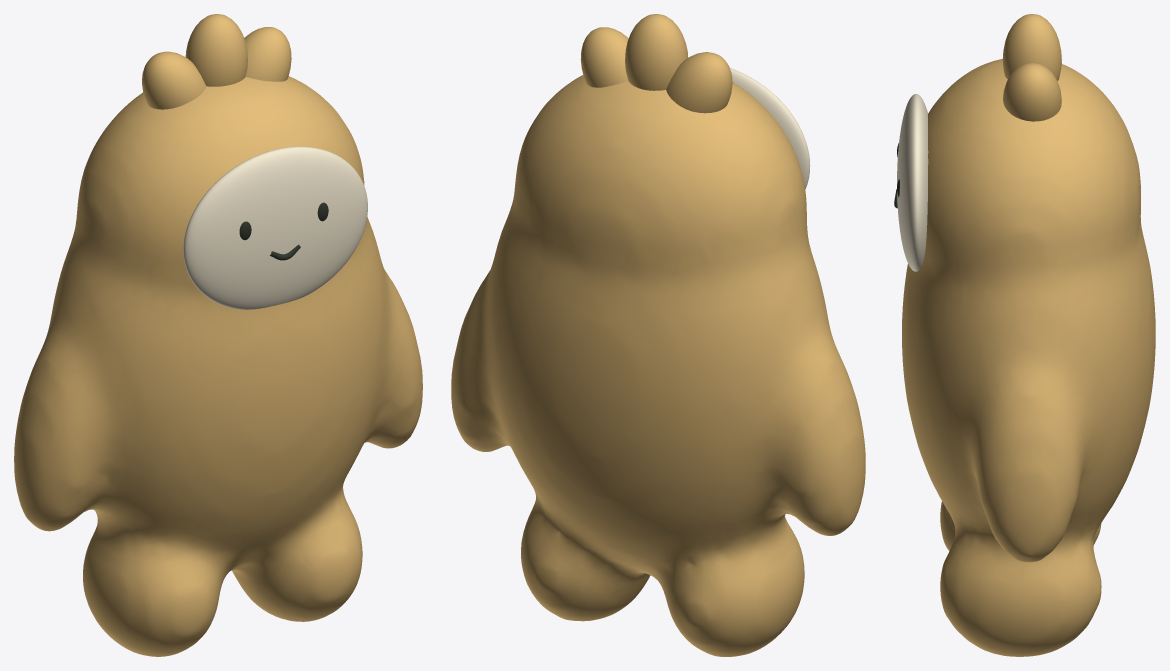
The model's file is sunny-soft-v1.glb.
The picture shows the model from 3 angles, left to right: view 1: azimuth 30°, elevation 25°; view 2: azimuth 150°, elevation 25°; view 3: azimuth 270°, elevation 25°; orthographic projection. The views are drawn at different scales.
Parts seen in each view (by area): view 1: Sunny continuous body, Linen face panel, Sun tuft.001, Sun tuft, Sun tuft.002; view 2: Sunny continuous body, Sun tuft.001, Sun tuft, Sun tuft.002, Linen face panel; view 3: Sunny continuous body, Linen face panel, Sun tuft.002, Sun tuft.001.
Boxes of the visible parts, x1,y1,x2,y2 form: Sunny continuous body: (14,76,422,656); Linen face panel: (183,146,367,309); Sun tuft.001: (185,14,247,86); Sun tuft: (142,51,206,109); Sun tuft.002: (244,27,291,81); Sunny continuous body: (451,75,865,656); Sun tuft.001: (625,14,687,90); Sun tuft: (666,52,732,113); Sun tuft.002: (580,27,628,87); Linen face panel: (730,68,810,189); Sunny continuous body: (902,59,1155,656); Linen face panel: (897,94,928,271); Sun tuft.002: (1003,62,1061,121); Sun tuft.001: (1002,14,1061,80).
Bounding box in the file's own units: 1.28 × 1.91 × 0.752.
